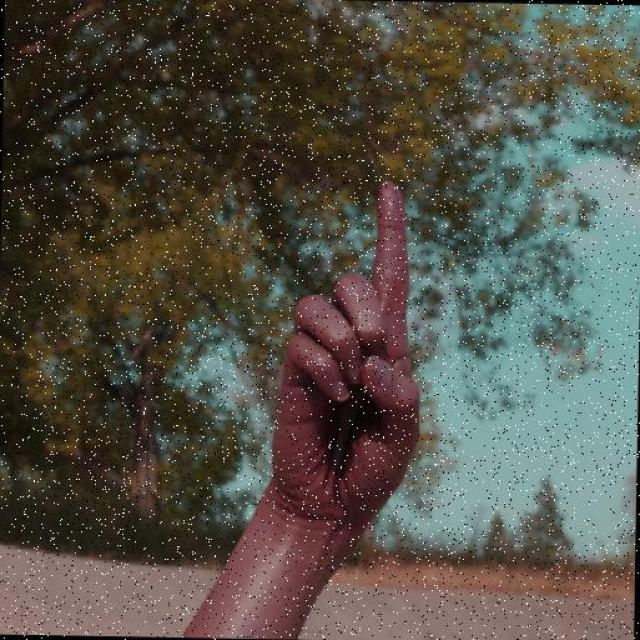D: (269, 174, 432, 517)
